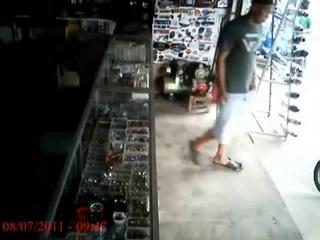Normal: (186, 0, 274, 172)
